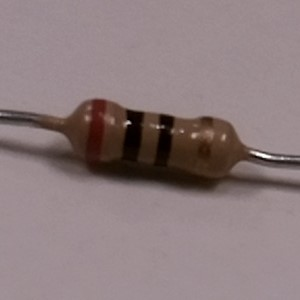black_band: (117, 107, 147, 166), (149, 111, 179, 170)
gold_band: (189, 113, 217, 182)
red_band: (81, 96, 109, 167)
